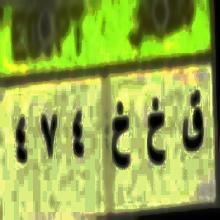4: (13, 110, 30, 176), (70, 104, 86, 165)
7: (39, 111, 59, 168)
khaa: (145, 94, 168, 174), (110, 99, 132, 179)
qaaf: (182, 88, 205, 160)
